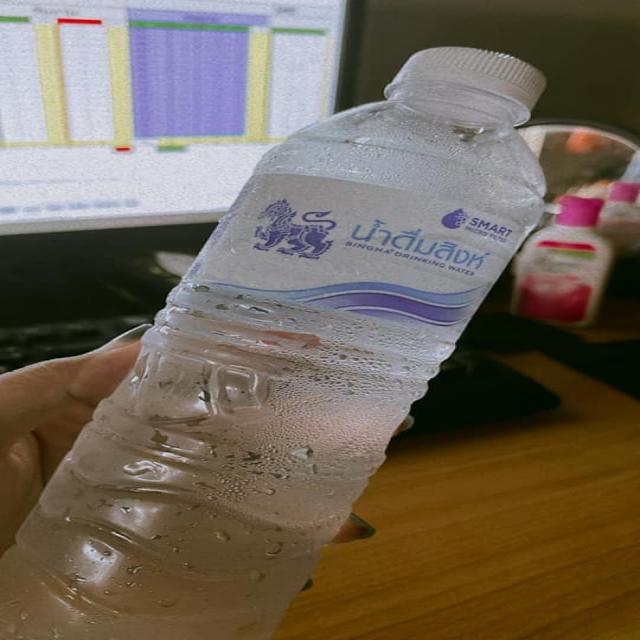bottle: (0, 44, 567, 640)
